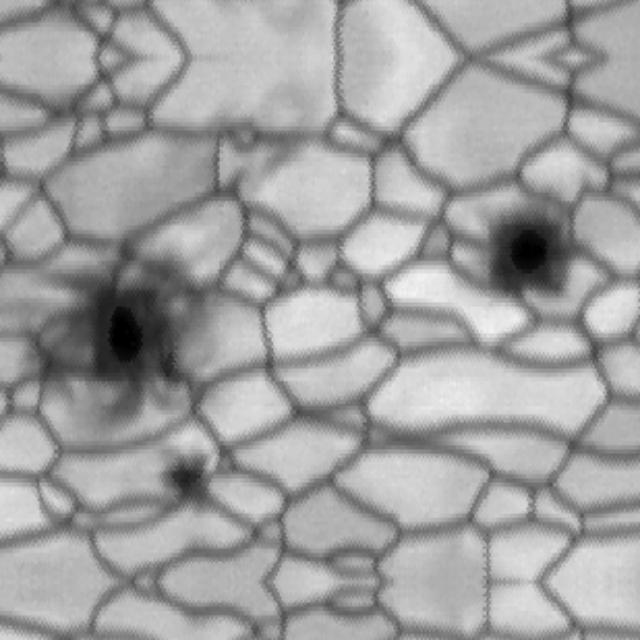good_void: (6, 252, 205, 436), (452, 206, 583, 307), (154, 436, 236, 521)
